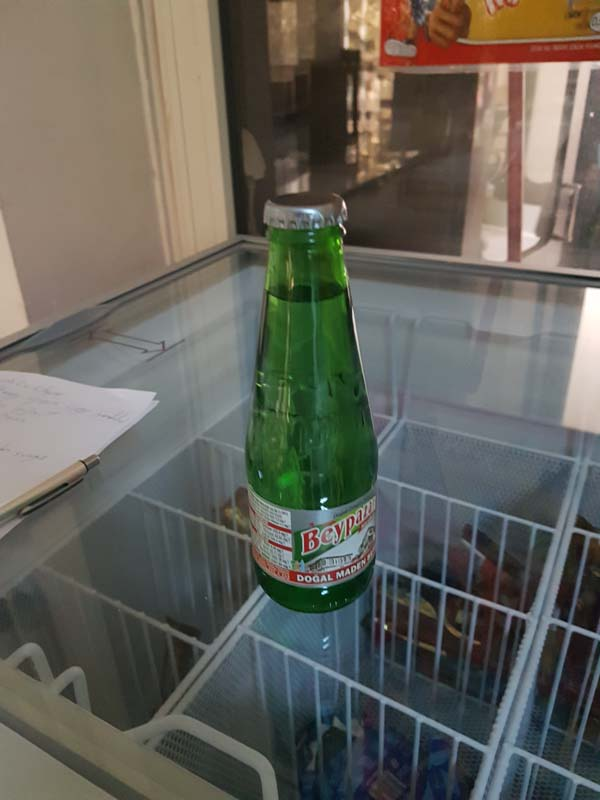beypazarimadensuyu: (247, 191, 385, 617)
